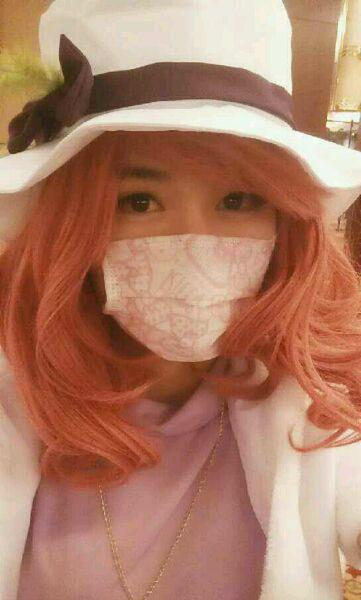OK: (101, 160, 291, 350)
